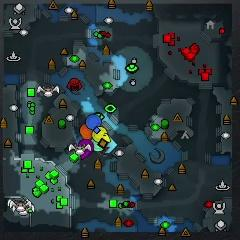p1: (85, 113, 102, 131)
p2: (92, 139, 102, 151)
p3: (78, 139, 91, 160)
p4: (91, 126, 111, 144)
p5: (80, 124, 92, 141)
x3: (105, 138, 116, 154)
